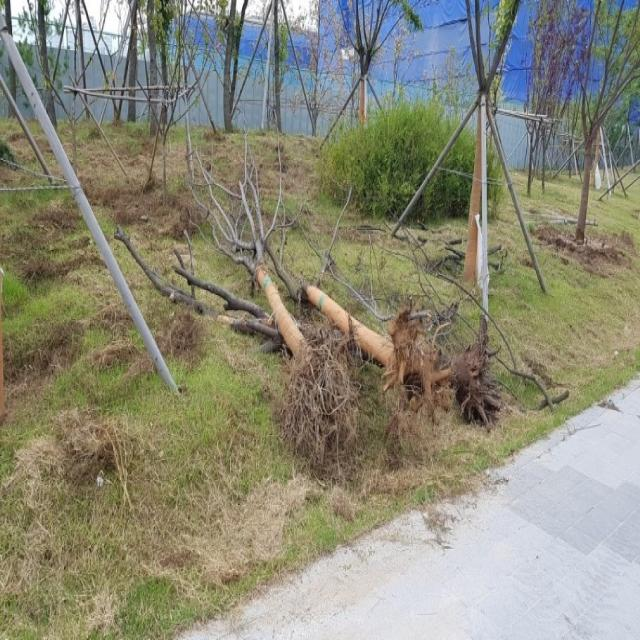plant: (115, 225, 503, 436), (187, 130, 362, 476), (262, 187, 453, 448), (317, 92, 508, 223), (122, 0, 228, 203), (555, 0, 640, 246), (461, 0, 521, 282), (524, 0, 586, 193), (336, 0, 424, 123), (223, 0, 248, 133)
wood: (0, 10, 179, 395), (390, 90, 479, 238), (487, 103, 548, 294), (481, 95, 489, 324)
